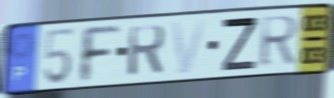5: (42, 25, 77, 87)
F: (78, 24, 123, 86)
R: (258, 13, 301, 70), (126, 22, 168, 79)
V: (168, 17, 210, 77)
Z: (220, 15, 260, 73)
